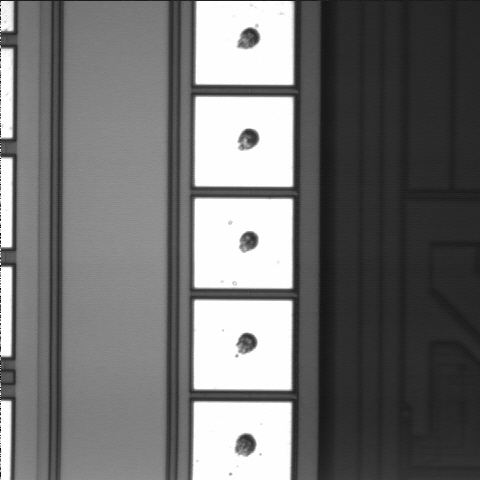pad: (194, 198, 293, 288), (195, 97, 293, 187), (194, 300, 292, 390)
